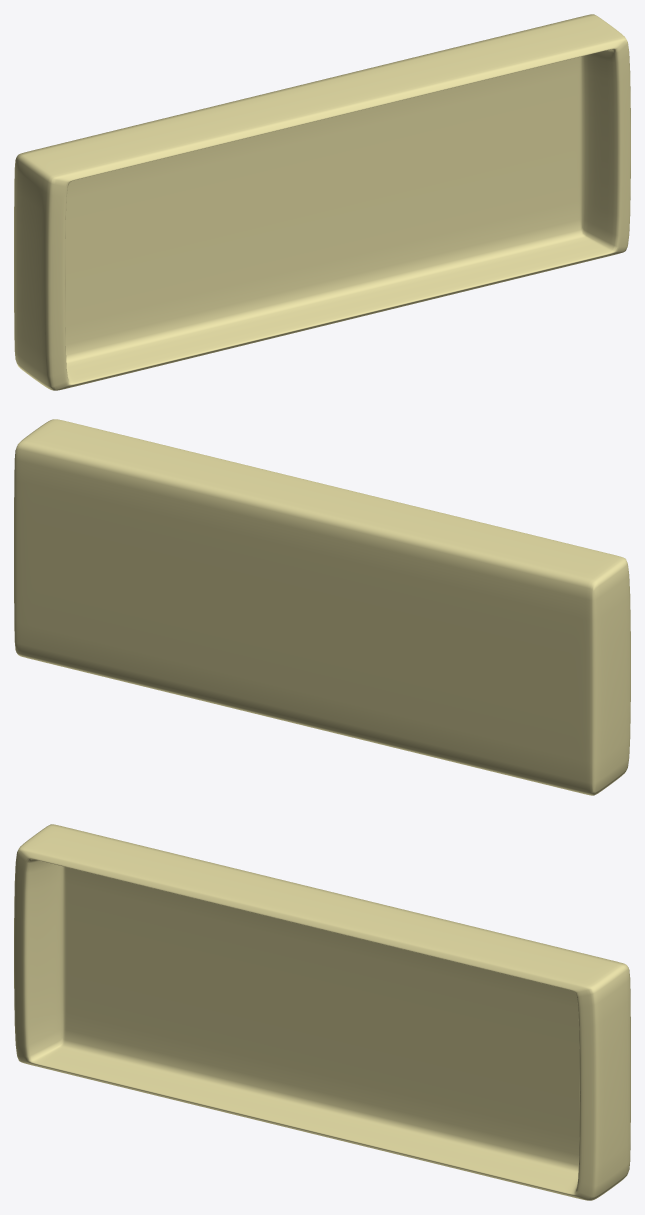
File: language_buttons_base.fbx
3 views of the same model, one above another, from view 1: azimuth 30°, elevation 25°; view 2: azimuth 150°, elevation 25°; view 3: azimuth 330°, elevation 25° (orthographic).
Parts seen in each view (by area): view 1: Cube.001; view 2: Cube.001; view 3: Cube.001.
Boxes of the visible parts, x1,y1,x2,y2 form: Cube.001: (14, 14, 630, 390); Cube.001: (14, 419, 630, 795); Cube.001: (14, 824, 630, 1200).
Size of the model in its own units: 1481 by 520 by 172.
